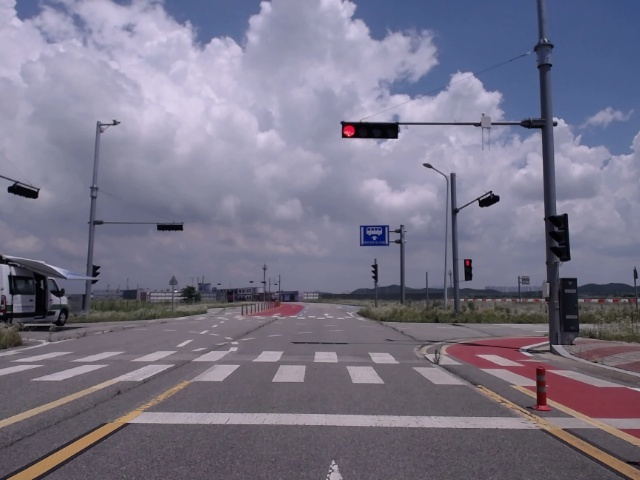red_4: (342, 124, 398, 139)
